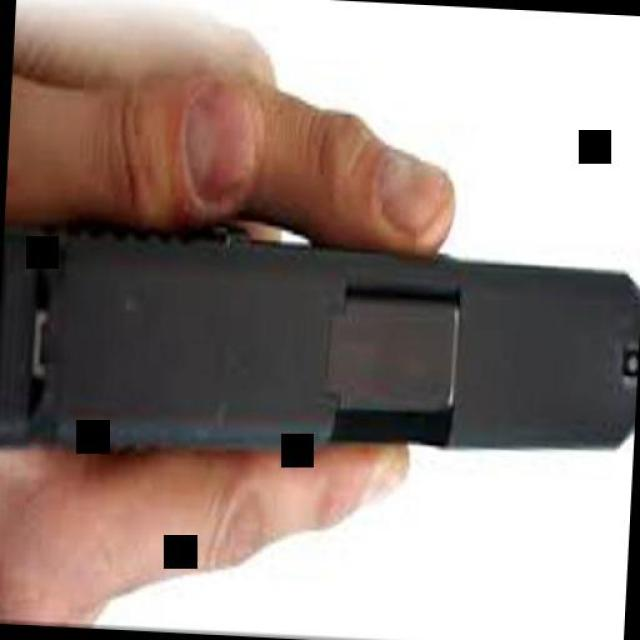gun: (0, 207, 638, 468)
